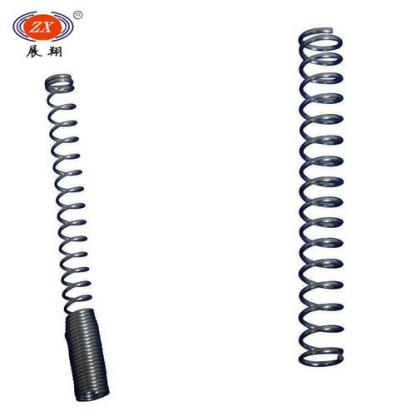FOD: (38, 72, 114, 405), (290, 22, 352, 371)
